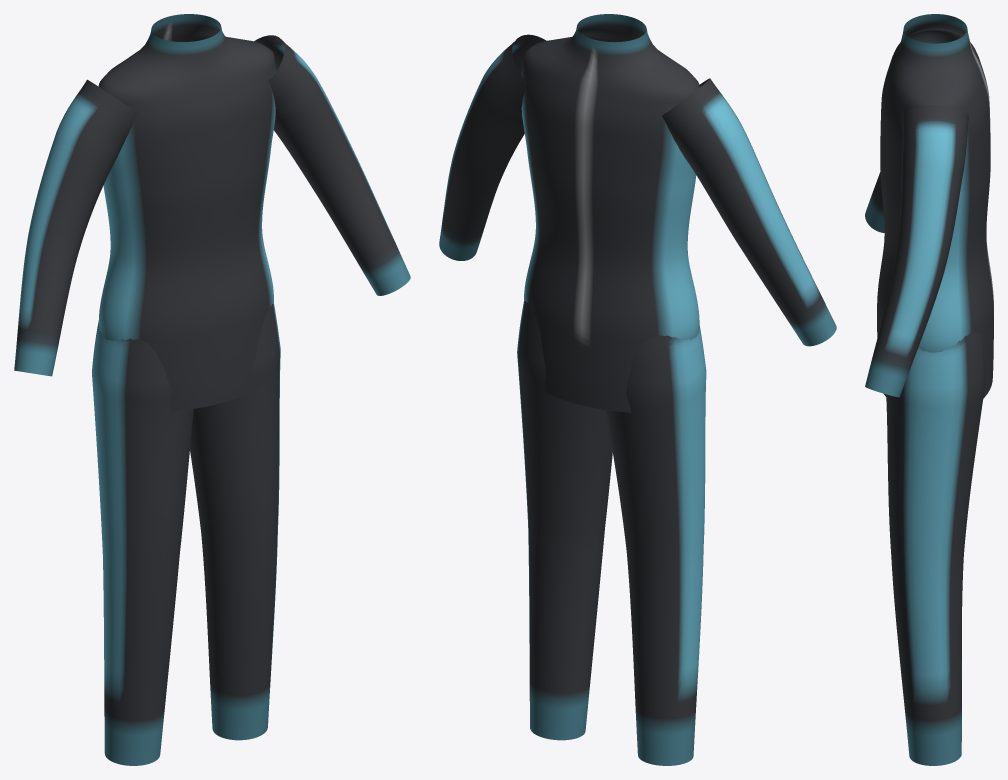
The model's file is combi-32.glb.
The picture shows the model from 3 angles, left to right: view 1: azimuth 30°, elevation 25°; view 2: azimuth 150°, elevation 25°; view 3: azimuth 270°, elevation 25°; orthographic projection. The views are drawn at different scales.
Parts seen in each view (by area): view 1: torse, jambe-1, jambe1, bras-1, bras1; view 2: torse, jambe-1, jambe1, bras-1, bras1; view 3: jambe1, torse, bras1, bras-1.
Boxes of the visible parts, left/top/right/bottom form: torse: left=98, top=14, right=276, bottom=411; jambe-1: left=92, top=322, right=193, bottom=765; jambe1: left=190, top=303, right=280, bottom=740; bras-1: left=14, top=79, right=137, bottom=376; bras1: left=254, top=35, right=410, bottom=295; torse: left=521, top=14, right=699, bottom=412; jambe-1: left=605, top=326, right=706, bottom=765; jambe1: left=517, top=301, right=612, bottom=740; bras-1: left=662, top=78, right=836, bottom=346; bras1: left=439, top=34, right=546, bottom=260; jambe1: left=886, top=332, right=985, bottom=765; torse: left=877, top=14, right=993, bottom=398; bras1: left=865, top=105, right=968, bottom=397; bras-1: left=865, top=171, right=884, bottom=232.
Bounding box in the file's own units: 0.8376 × 1.46 × 0.2427.
